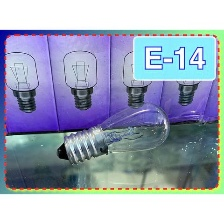book: (36, 27, 114, 138), (0, 25, 62, 138), (102, 27, 165, 136), (159, 30, 220, 130)
light_bulb: (52, 96, 175, 171)
